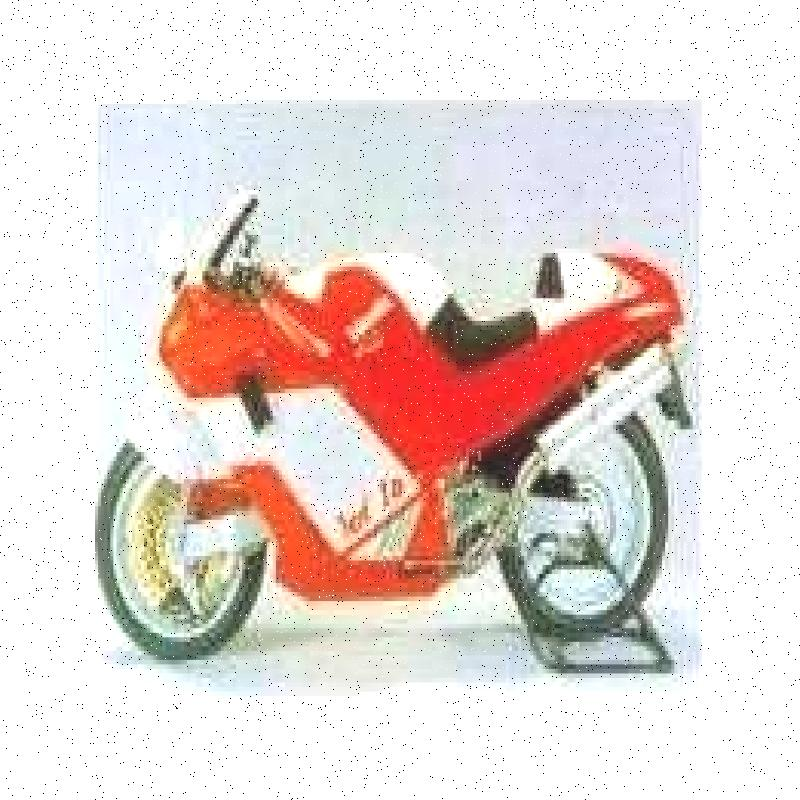bike: (85, 127, 696, 672)
